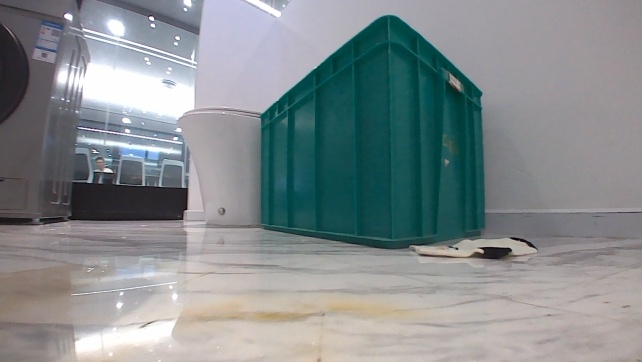socks: (409, 233, 539, 259)
toilet: (174, 102, 263, 230)
washing_machine1: (0, 0, 91, 223)
